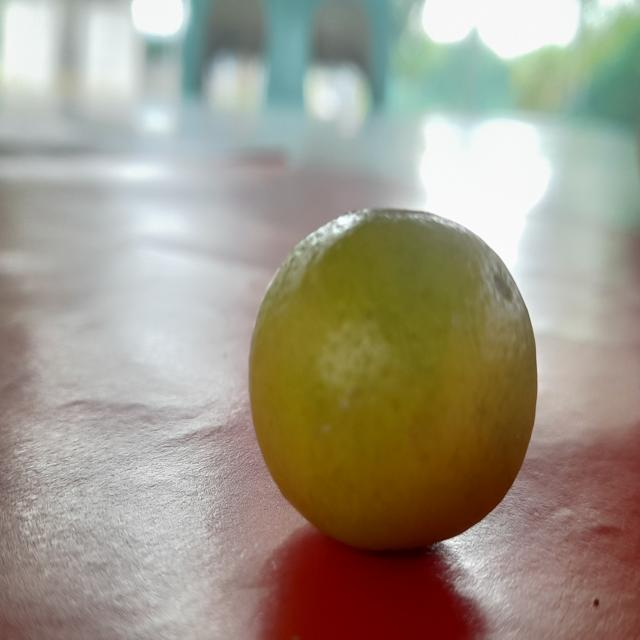greening: (245, 217, 537, 546)
